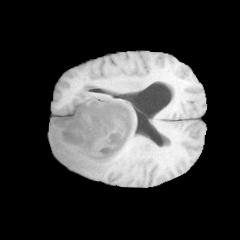glioma: (48, 91, 135, 176)
